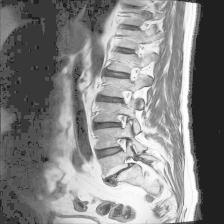disc: (92, 140, 128, 163), (106, 42, 144, 61), (91, 116, 127, 134), (94, 90, 128, 108), (116, 19, 148, 37), (98, 67, 134, 82)
hdisc: (100, 162, 146, 189)
